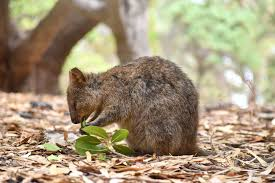quokka: (57, 47, 217, 167)
